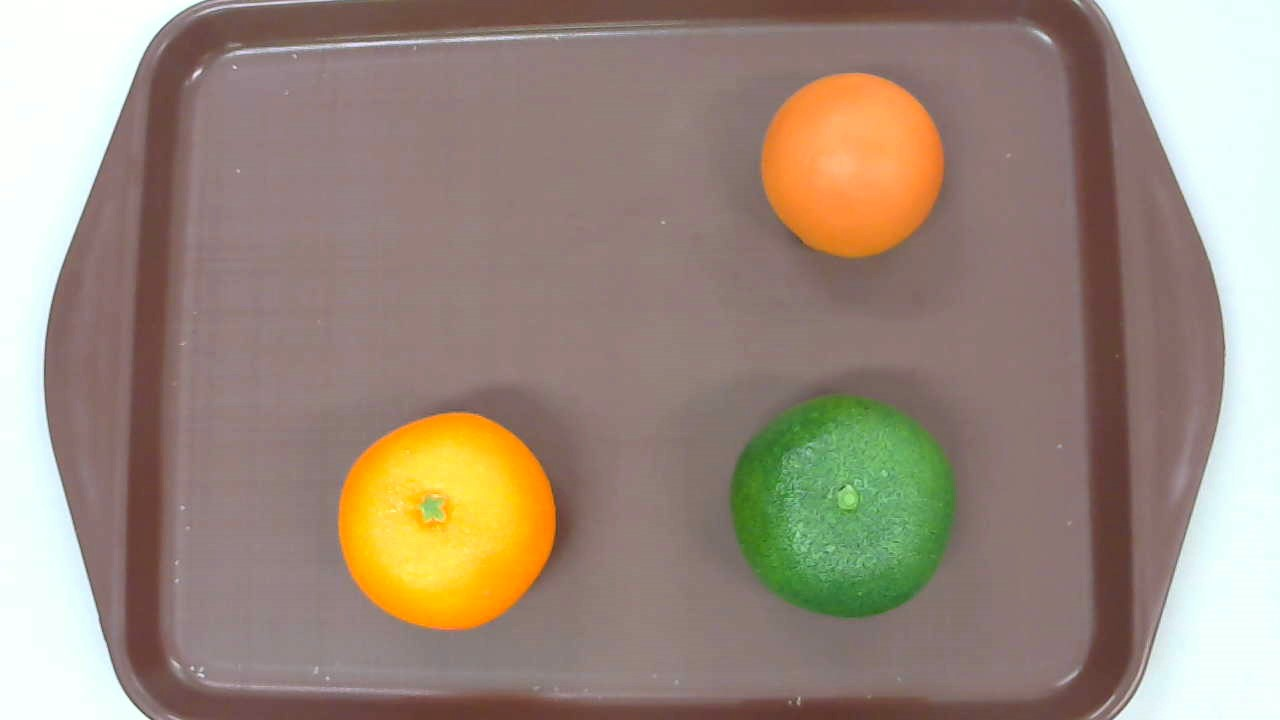bun: (760, 72, 943, 259)
green orange: (728, 392, 959, 616)
orange: (335, 409, 560, 634)
